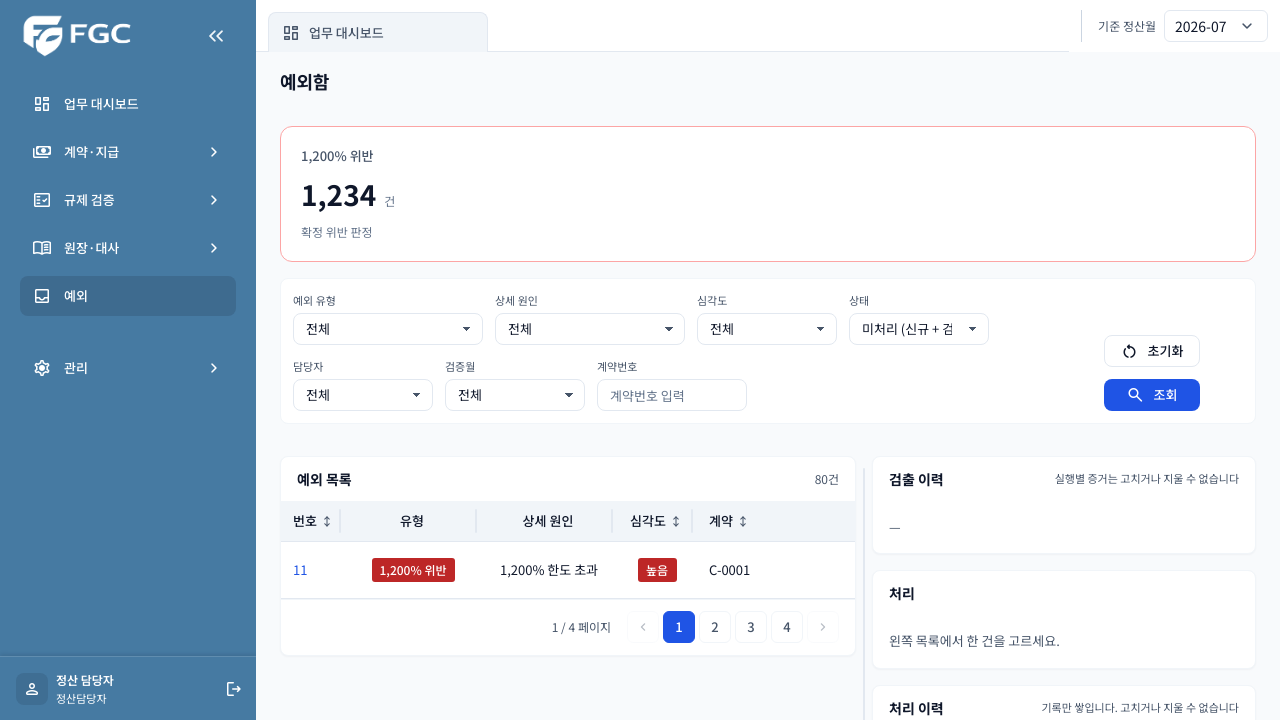
EXCP-W01 예외함 › 전체 4페이지면 양쪽 묶음 화살표가 비활성이어도 숫자 페이지는 선택할 수 있다
Expected: the text "1 / 4 페이지" is shown, 552,618 -> 611,636
Expected: the button named "이전 5페이지" is disabled, 627,611 -> 659,643
Step 1. Click the button "4" → (787,627), box 771,611 -> 803,643
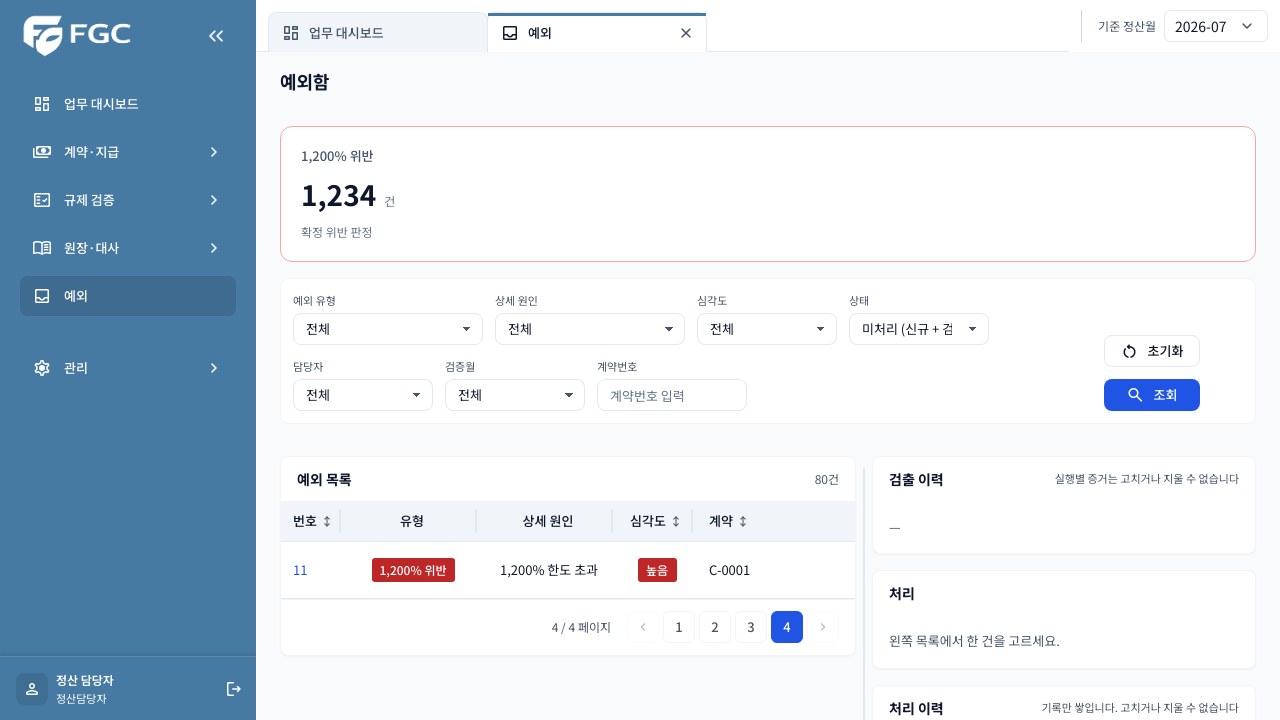
Now the text "4 / 4 페이지" is shown, box 552,618 -> 611,636
